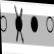correct: (30, 14, 39, 35)
not correct: (14, 4, 25, 44)
